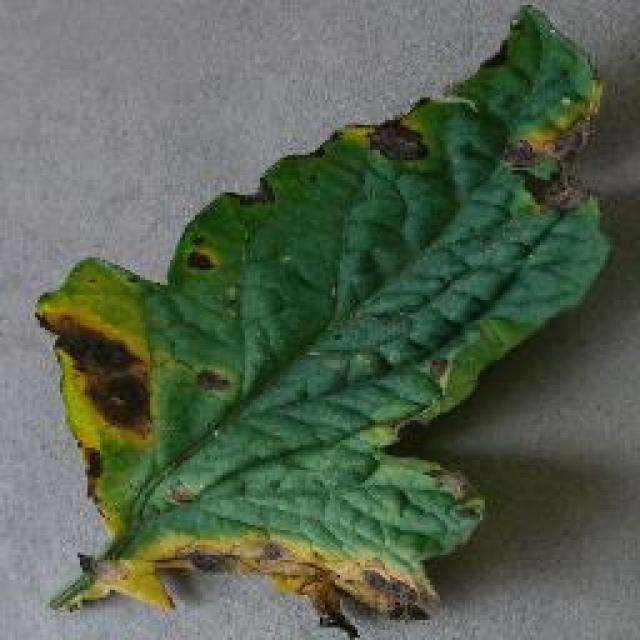Tomato___Early_blight: (28, 2, 616, 638)
